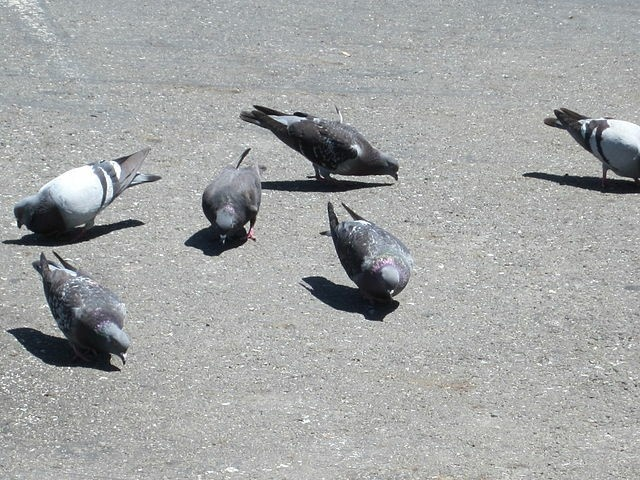Pigeon: (12, 143, 168, 242), (238, 102, 403, 187), (32, 248, 135, 370), (323, 199, 418, 314), (541, 103, 640, 194), (199, 142, 262, 250)
